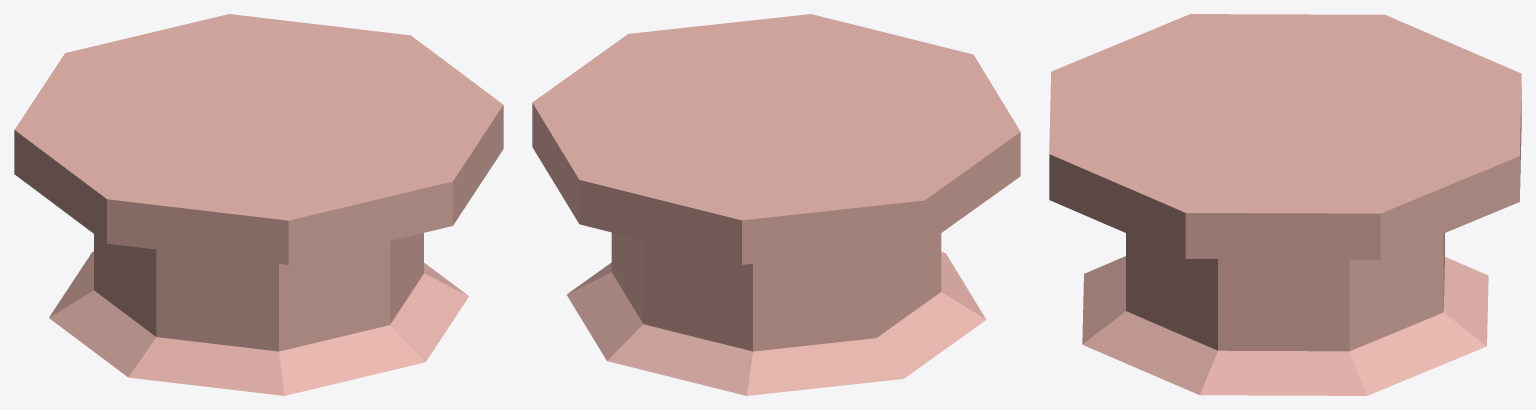
The model's file is MesaImpressora.fbx.
3 renders of one model, left to right at view 1: azimuth 30°, elevation 25°; view 2: azimuth 150°, elevation 25°; view 3: azimuth 270°, elevation 25°, orthographic. The views are drawn at different scales.
Visible parts, largest first — view 1: Cylinder.001; view 2: Cylinder.001; view 3: Cylinder.001.
Part boxes in pixels (box(x1,y1,x2,y2)): Cylinder.001: box(14, 14, 503, 395); Cylinder.001: box(532, 14, 1020, 395); Cylinder.001: box(1049, 14, 1521, 395).
Bounding box in the file's own units: 144 × 66.22 × 144.
